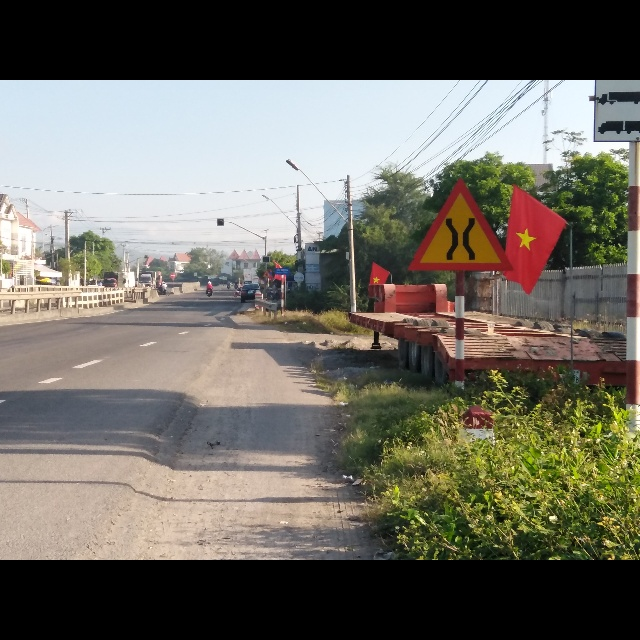Cầu hẹp: (407, 176, 513, 273)
